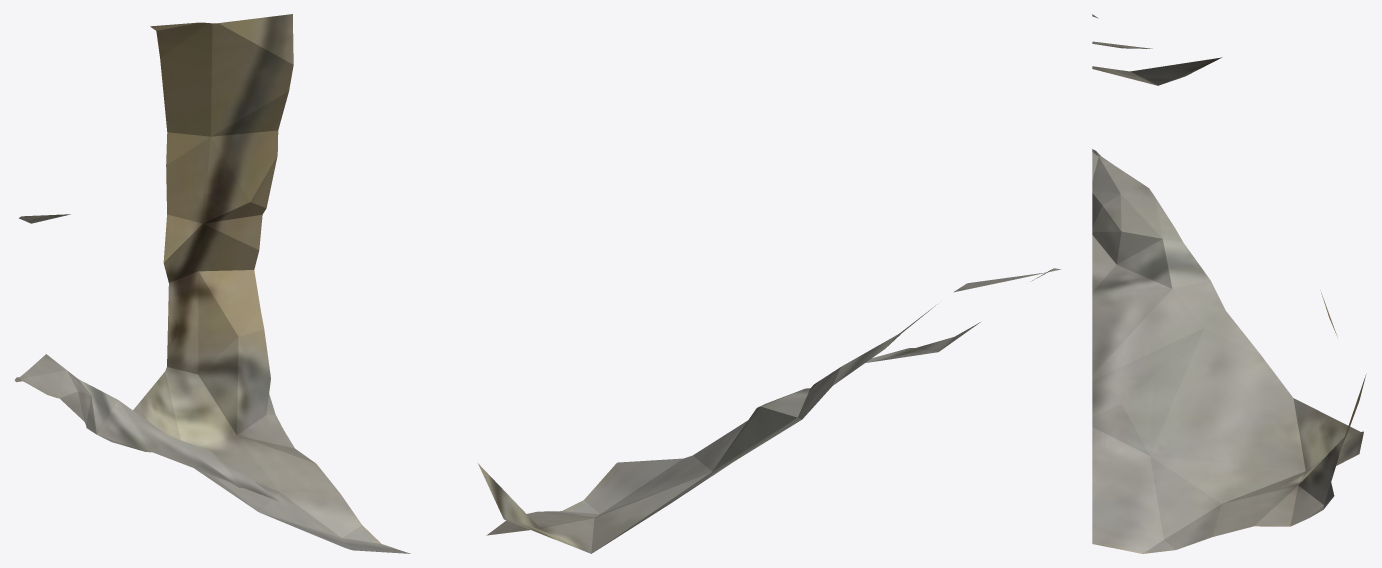
The picture shows the model from 3 angles, left to right: view 1: azimuth 30°, elevation 25°; view 2: azimuth 150°, elevation 25°; view 3: azimuth 270°, elevation 25°; orthographic projection. The views are drawn at different scales.
Size of the model in its own units: 0.9676 by 1.08 by 0.6836.
1 material, 1 textured.
